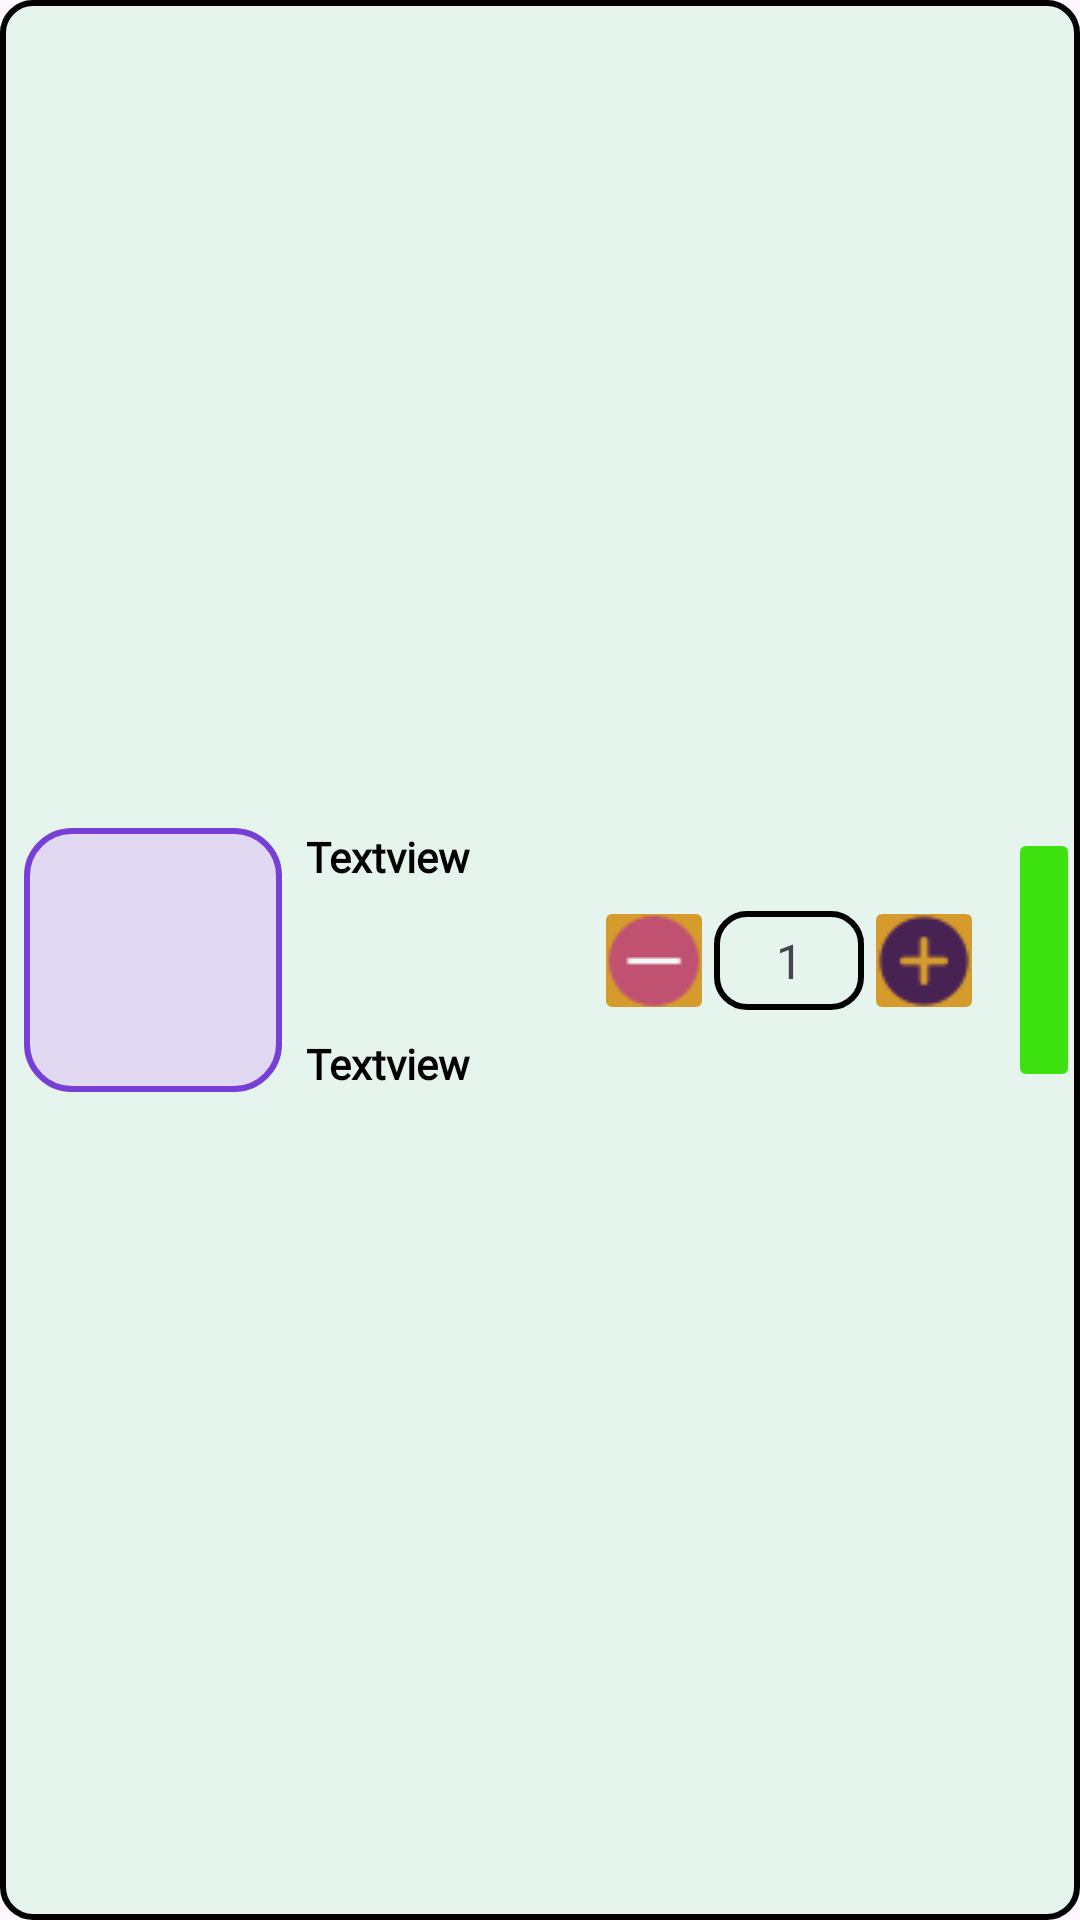

Point at icon controls on the screen. Image size 1080 × 1920, points as (x,y).
add: (924,960)
reduce: (654,960)
